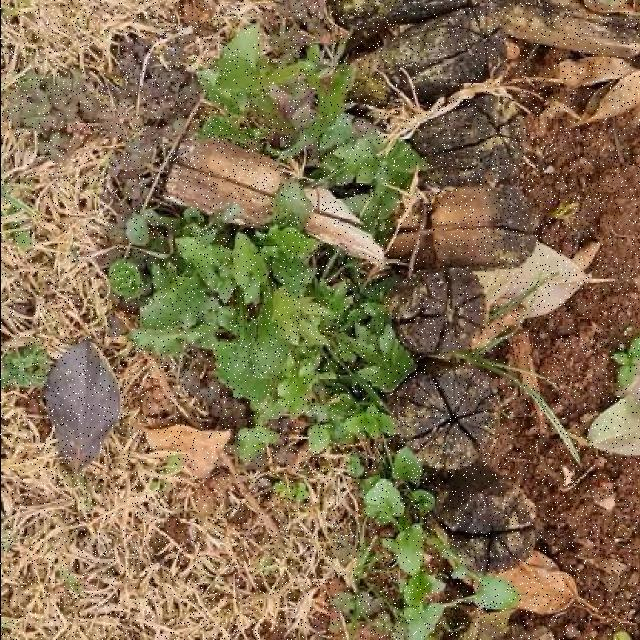weed: (108, 182, 414, 460), (201, 23, 420, 238), (361, 449, 440, 640)
